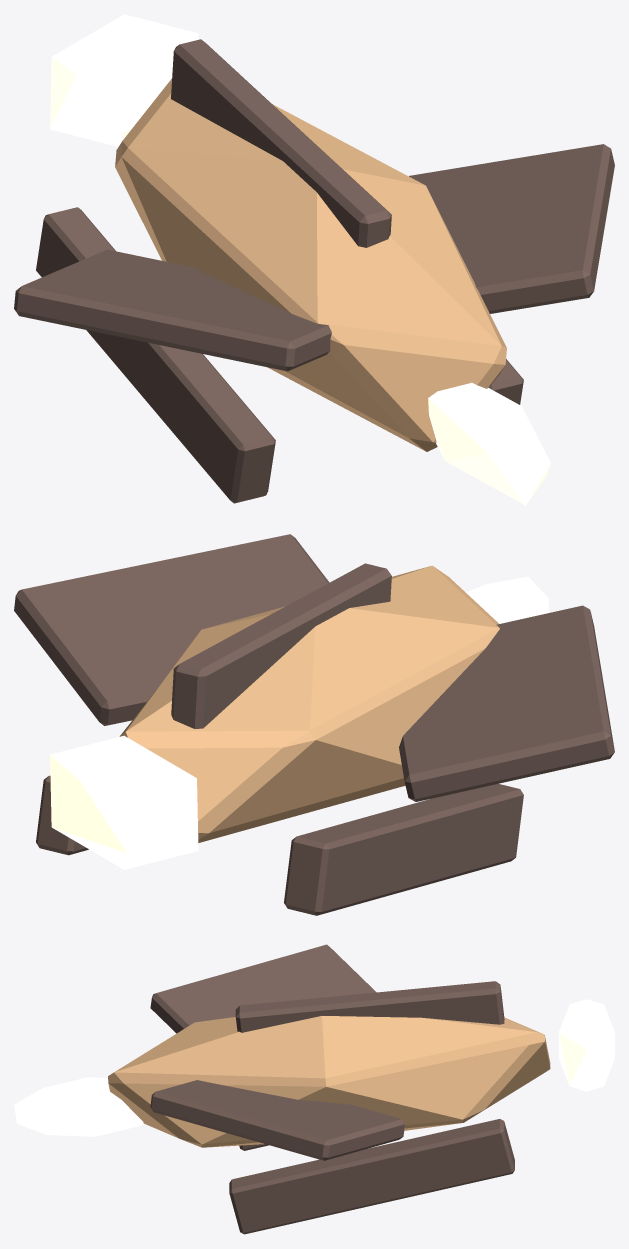
File: courser.glb
3 renders of one model, top to bottom at view 1: azimuth 30°, elevation 25°; view 2: azimuth 150°, elevation 25°; view 3: azimuth 270°, elevation 25°, orthographic. The views are drawn at different scales.
Parts seen in each view (by area): view 1: Body, Canard, Skid, Blade, Thruster, Nose; view 2: Canard, Body, Skid, Thruster, Blade, Nose; view 3: Body, Canard, Skid, Blade, Nose, Thruster.
Boxes of the visible parts, bbox=[...] form: Body: bbox=[115, 78, 506, 451]; Canard: bbox=[14, 144, 614, 371]; Skid: bbox=[36, 207, 523, 503]; Blade: bbox=[171, 39, 391, 247]; Thruster: bbox=[50, 14, 198, 146]; Nose: bbox=[428, 382, 550, 505]; Canard: bbox=[14, 534, 614, 801]; Body: bbox=[119, 565, 499, 842]; Skid: bbox=[36, 775, 523, 915]; Thruster: bbox=[50, 735, 198, 869]; Blade: bbox=[171, 563, 391, 728]; Nose: bbox=[466, 576, 548, 623]; Body: bbox=[108, 1016, 550, 1147]; Canard: bbox=[150, 944, 404, 1160]; Skid: bbox=[229, 1119, 514, 1234]; Blade: bbox=[235, 981, 504, 1032]; Nose: bbox=[14, 1077, 143, 1136]; Thruster: bbox=[558, 999, 614, 1091].
Bounding box in the file's own units: 1.11 × 0.5219 × 1.4.
